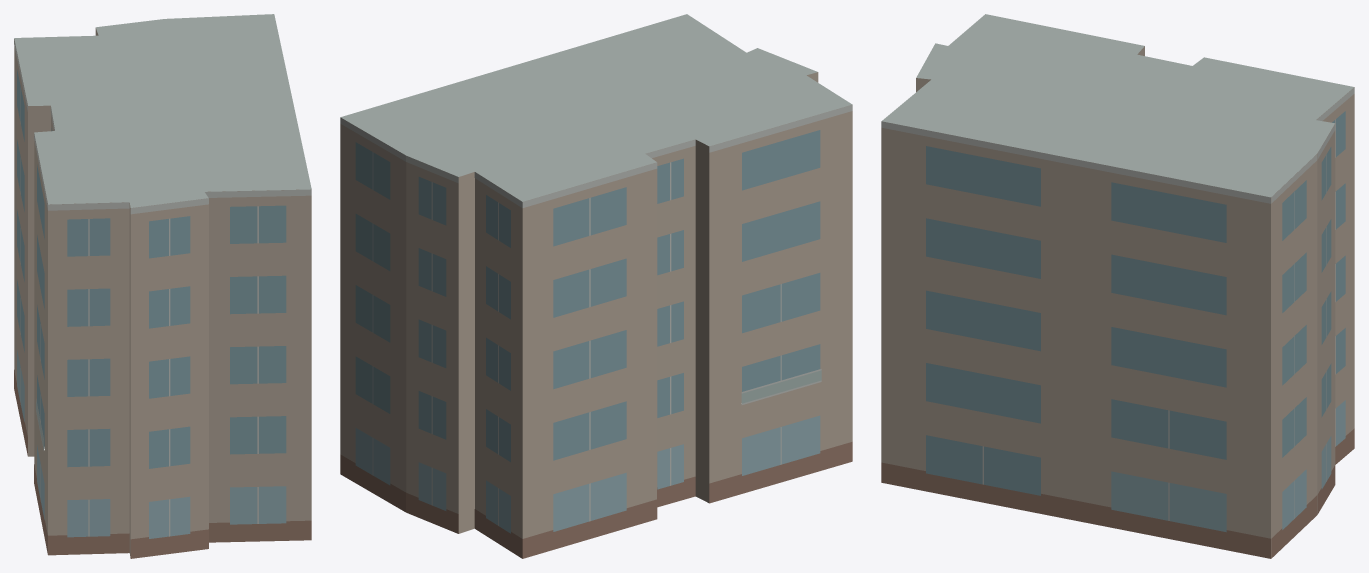
The model's file is survey-upis-32941403.glb.
3 views of the same model, side by side, from view 1: azimuth 30°, elevation 25°; view 2: azimuth 150°, elevation 25°; view 3: azimuth 270°, elevation 25° (orthographic). The views are drawn at different scales.
Visible parts, largest first — view 1: survey-upis-32941403.tmp; view 2: survey-upis-32941403.tmp; view 3: survey-upis-32941403.tmp.
Part boxes in pixels (box(x1,y1,x2,y2)): survey-upis-32941403.tmp: box(14, 14, 311, 558); survey-upis-32941403.tmp: box(340, 14, 852, 558); survey-upis-32941403.tmp: box(881, 14, 1354, 558).
Bounding box in the file's own units: 14.92 × 13.7 × 16.26.
